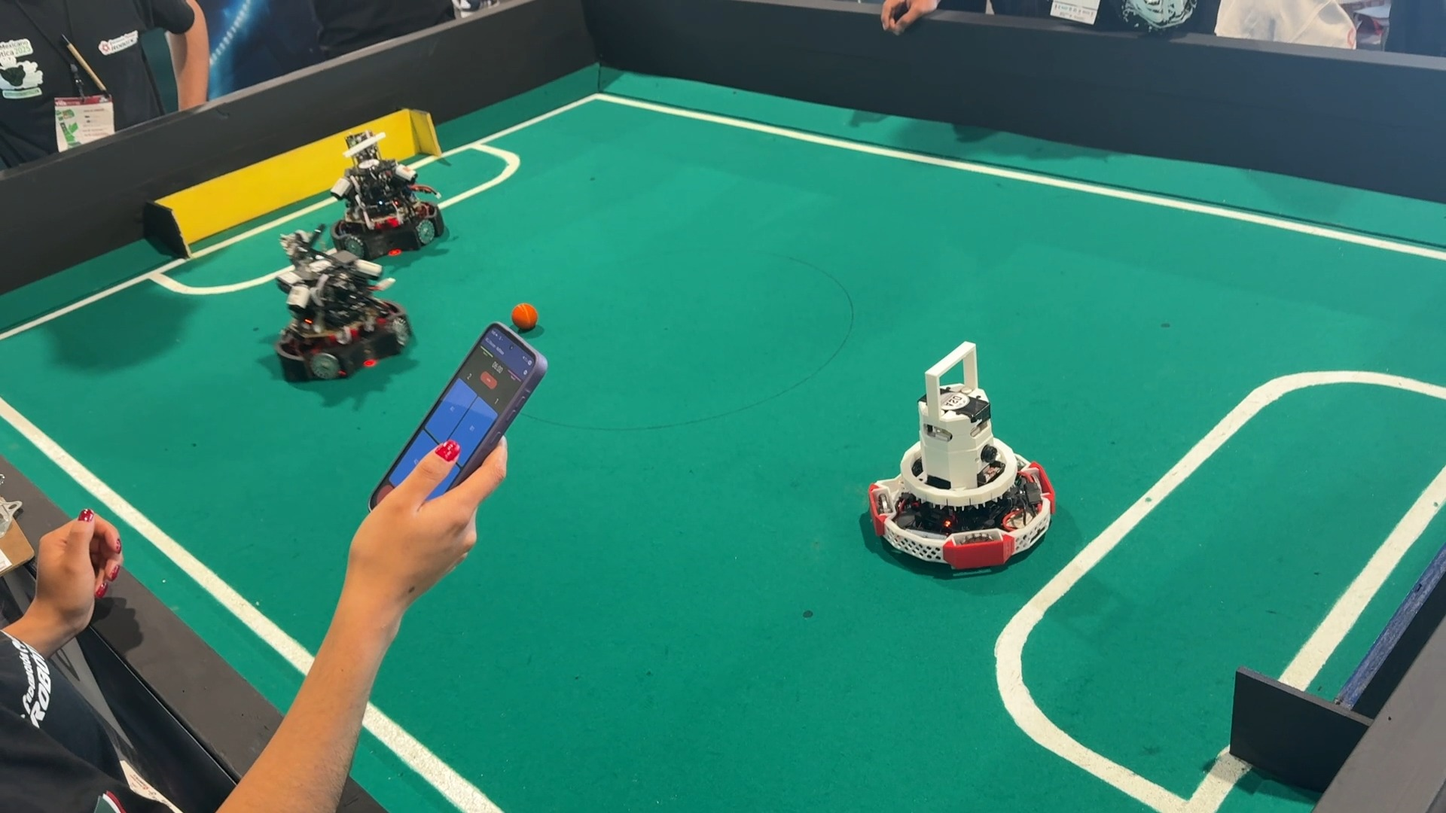Robot: (865, 327, 1066, 594), (243, 207, 421, 404), (314, 114, 449, 269)
pelota: (507, 298, 548, 340)
